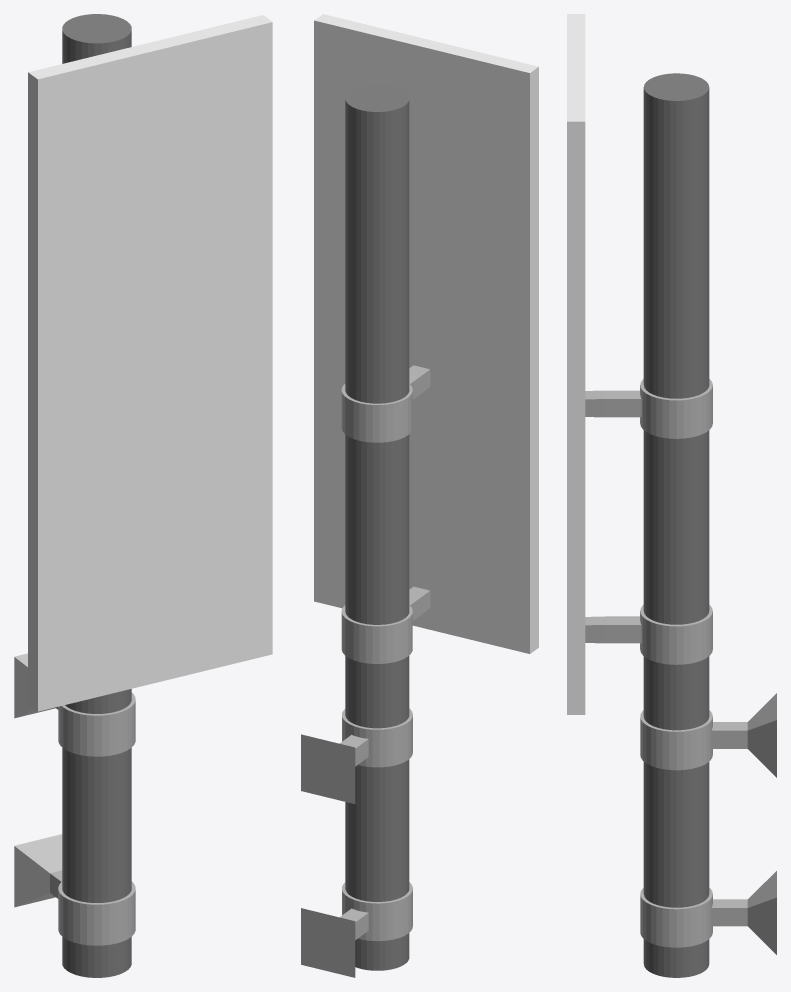
Rendered from remoteLink.fbx.
3 renders of one model, left to right at view 1: azimuth 30°, elevation 25°; view 2: azimuth 150°, elevation 25°; view 3: azimuth 270°, elevation 25°, orthographic. The views are drawn at different scales.
Parts seen in each view (by area): view 1: Cylinder; view 2: Cylinder; view 3: Cylinder.
Part boxes in pixels (box(x1,y1,x2,y2)): Cylinder: box(14, 14, 272, 977); Cylinder: box(301, 14, 538, 977); Cylinder: box(567, 14, 776, 977).
Bounding box in the file's own units: 700 × 2719 × 577.
